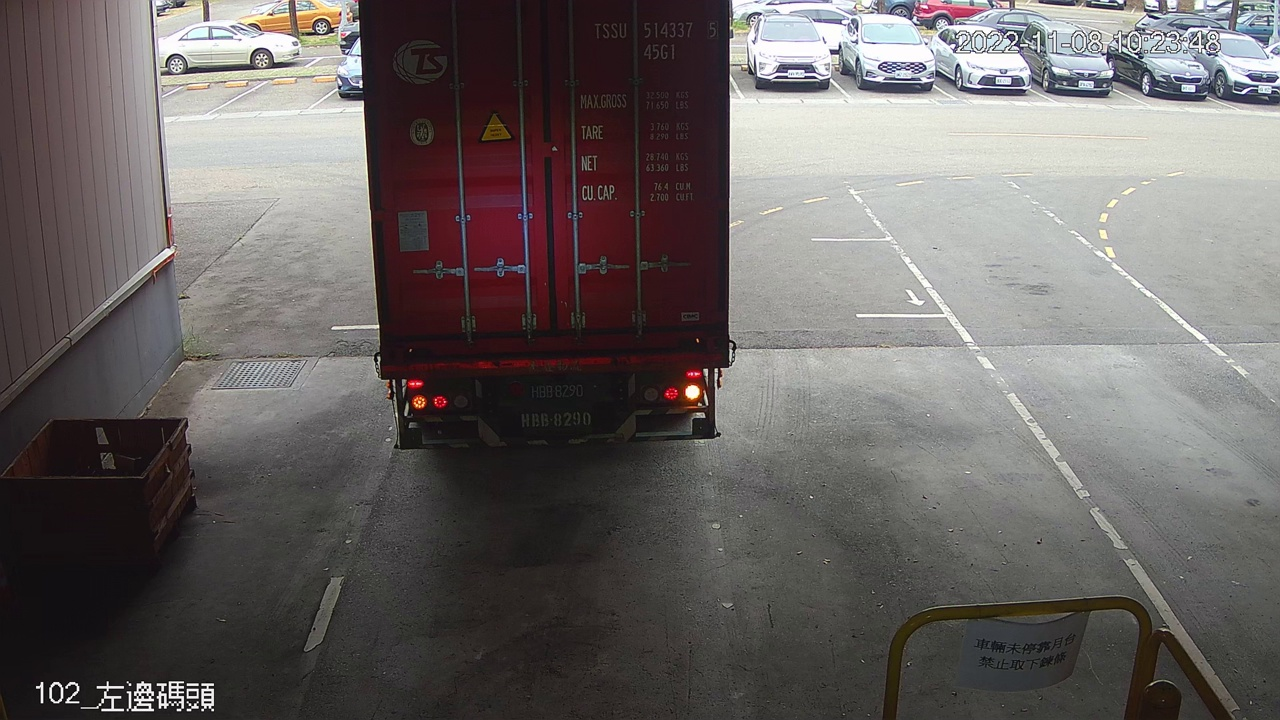container: (587, 12, 724, 65)
